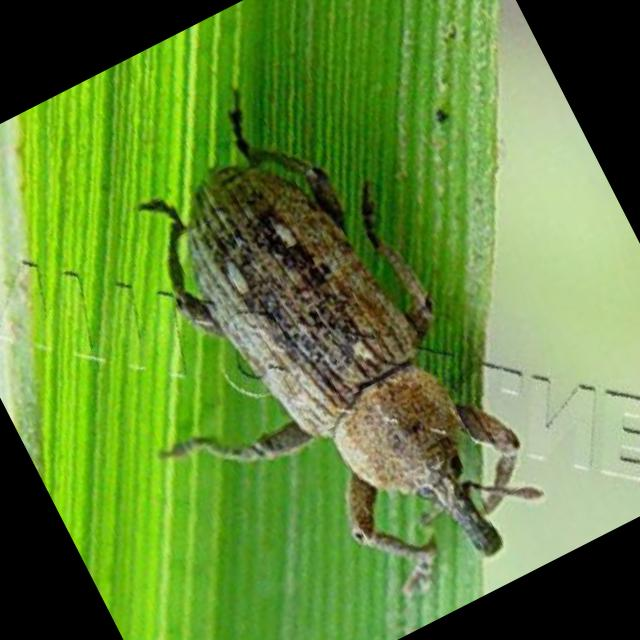rice-bug: (110, 62, 568, 622)
